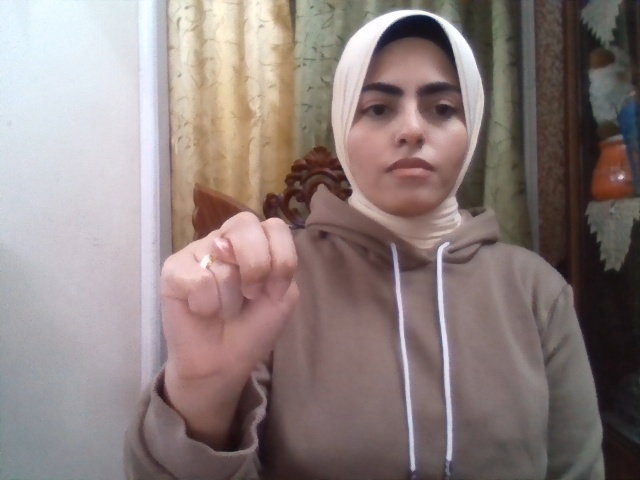N: (158, 212, 300, 381)
